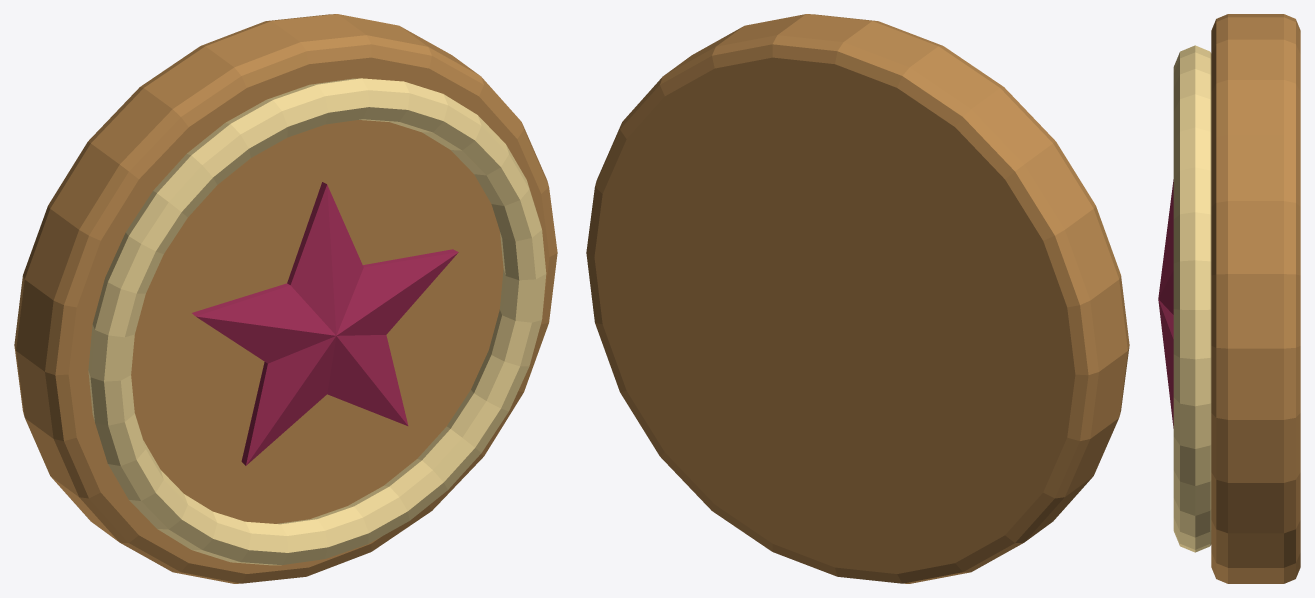
File: Mission_chip_rain.fbx
The picture shows the model from 3 angles, left to right: view 1: azimuth 30°, elevation 25°; view 2: azimuth 150°, elevation 25°; view 3: azimuth 270°, elevation 25°; orthographic projection. The views are drawn at different scales.
Visible parts, largest first — view 1: Mission_chip_rain.Mesh; view 2: Mission_chip_rain.Mesh; view 3: Mission_chip_rain.Mesh.
Boxes of the visible parts, x1=… form: Mission_chip_rain.Mesh: x1=14, y1=14, x2=557, y2=583; Mission_chip_rain.Mesh: x1=586, y1=14, x2=1129, y2=583; Mission_chip_rain.Mesh: x1=1158, y1=14, x2=1300, y2=583.
Bounding box in the file's own units: 48 × 48 × 11.95.
